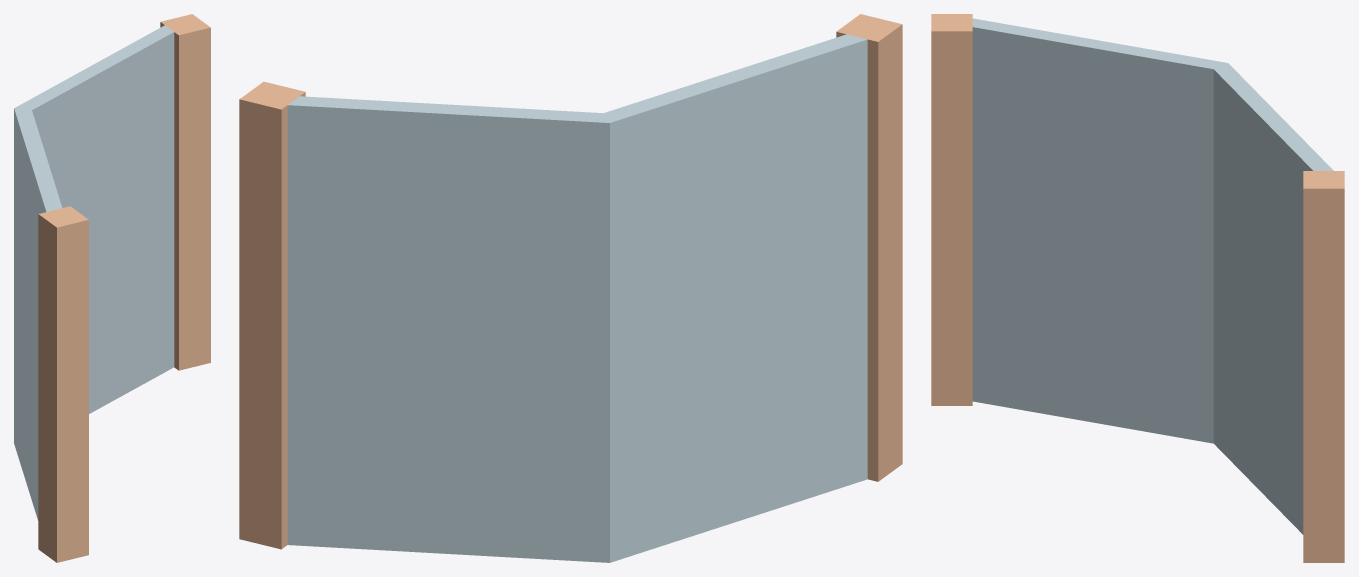
File: wallCornerEdge.glb
3 views of the same model, side by side, from view 1: azimuth 30°, elevation 25°; view 2: azimuth 150°, elevation 25°; view 3: azimuth 270°, elevation 25° (orthographic). The views are drawn at different scales.
Parts seen in each view (by area): view 1: wallCornerEdge; view 2: wallCornerEdge; view 3: wallCornerEdge.
Part boxes in pixels (box(x1,y1,x2,y2)): wallCornerEdge: box(14, 14, 210, 562); wallCornerEdge: box(239, 14, 902, 562); wallCornerEdge: box(931, 14, 1344, 562).
Size of the model in its own units: 1 by 1 by 1.
